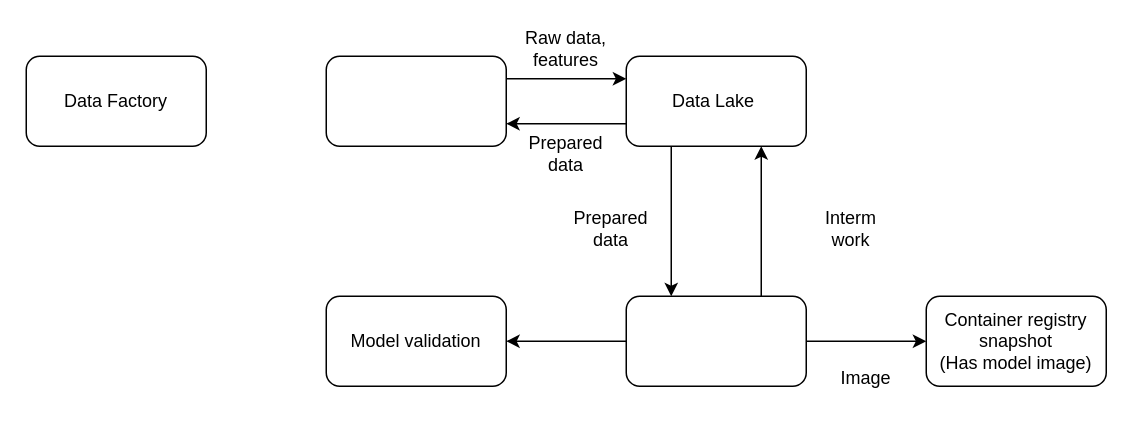
This 1133x426 diagram has some shape labels left out. The shapes that lost their labels are listed below. From the top down, each one's box as (x1, y1, x2, y2) in pixels, then its label:
(325, 55, 506, 146): Databricks (Run development dataprep)
(625, 295, 806, 386): Kubernetes (Run Pod/Job for model development)
